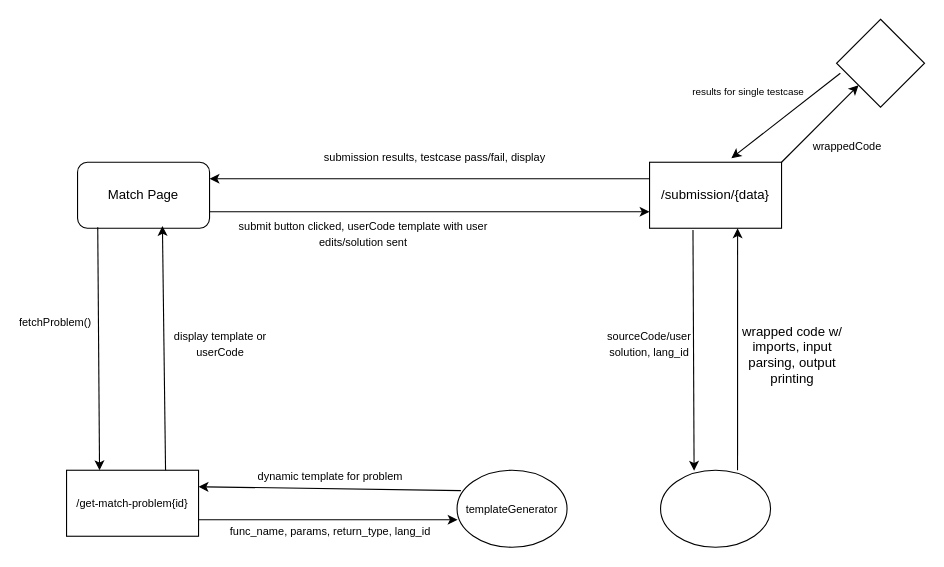
This 944x567 diagram has some shape labels left out. The shapes that lost their labels are listed below. From the top down, each one's centre as x and y in pixels, then its label:
point (880, 62): RapidAPI
point (715, 508): codeWrapper
